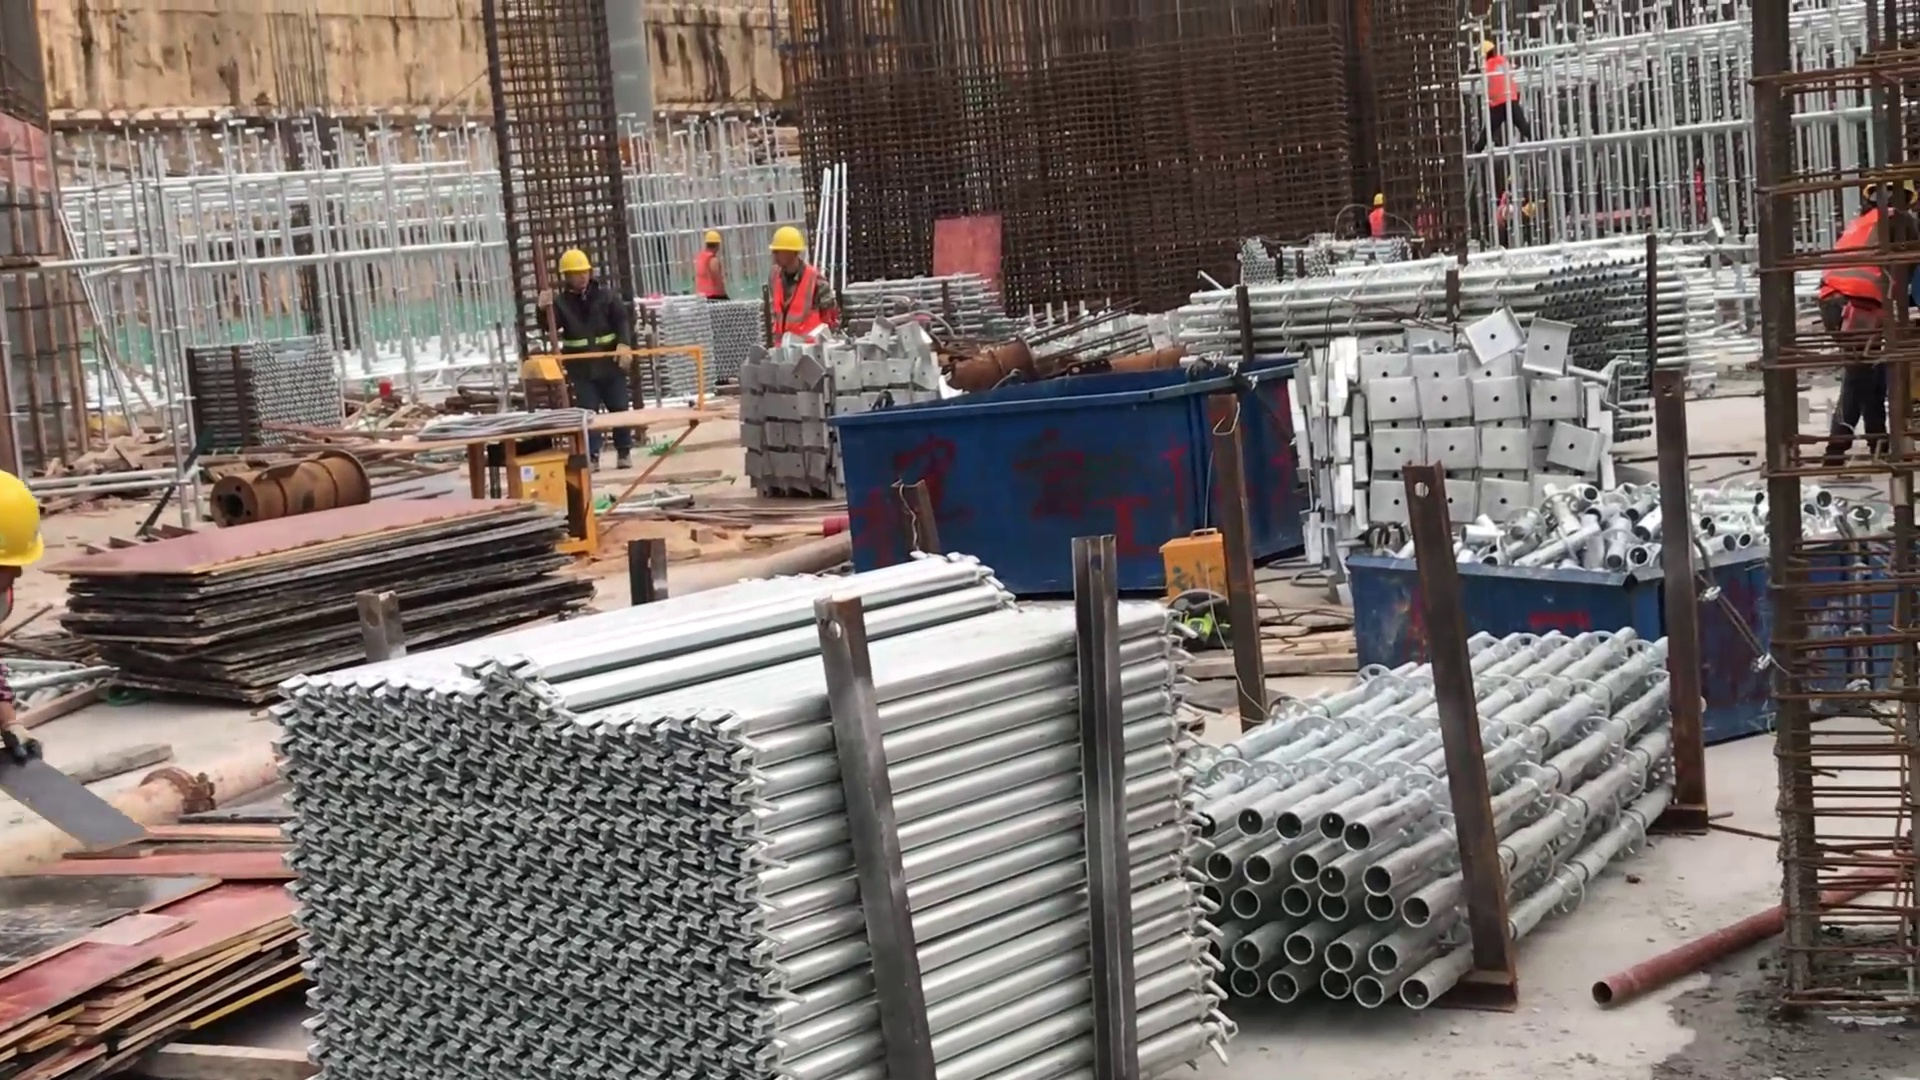board: (53, 476, 600, 724), (1, 788, 331, 1075)
cutter: (417, 381, 686, 567)
ebox: (1162, 526, 1243, 640)
helmet: (1, 461, 52, 570), (761, 222, 815, 261), (548, 246, 606, 282), (697, 222, 727, 250), (1477, 30, 1500, 59), (1369, 187, 1390, 208)
hopper: (1346, 526, 1919, 747), (827, 371, 1325, 583)
person: (1807, 179, 1920, 460), (531, 238, 660, 479), (750, 222, 853, 369), (1469, 30, 1542, 154), (688, 215, 743, 319), (1358, 179, 1397, 251)
scaffold: (274, 543, 1237, 1080), (1188, 607, 1688, 1014), (1169, 237, 1672, 439), (188, 328, 350, 459)
vest: (1815, 208, 1905, 330), (758, 271, 834, 351), (1477, 59, 1524, 117), (690, 250, 729, 304), (1363, 206, 1395, 243)
